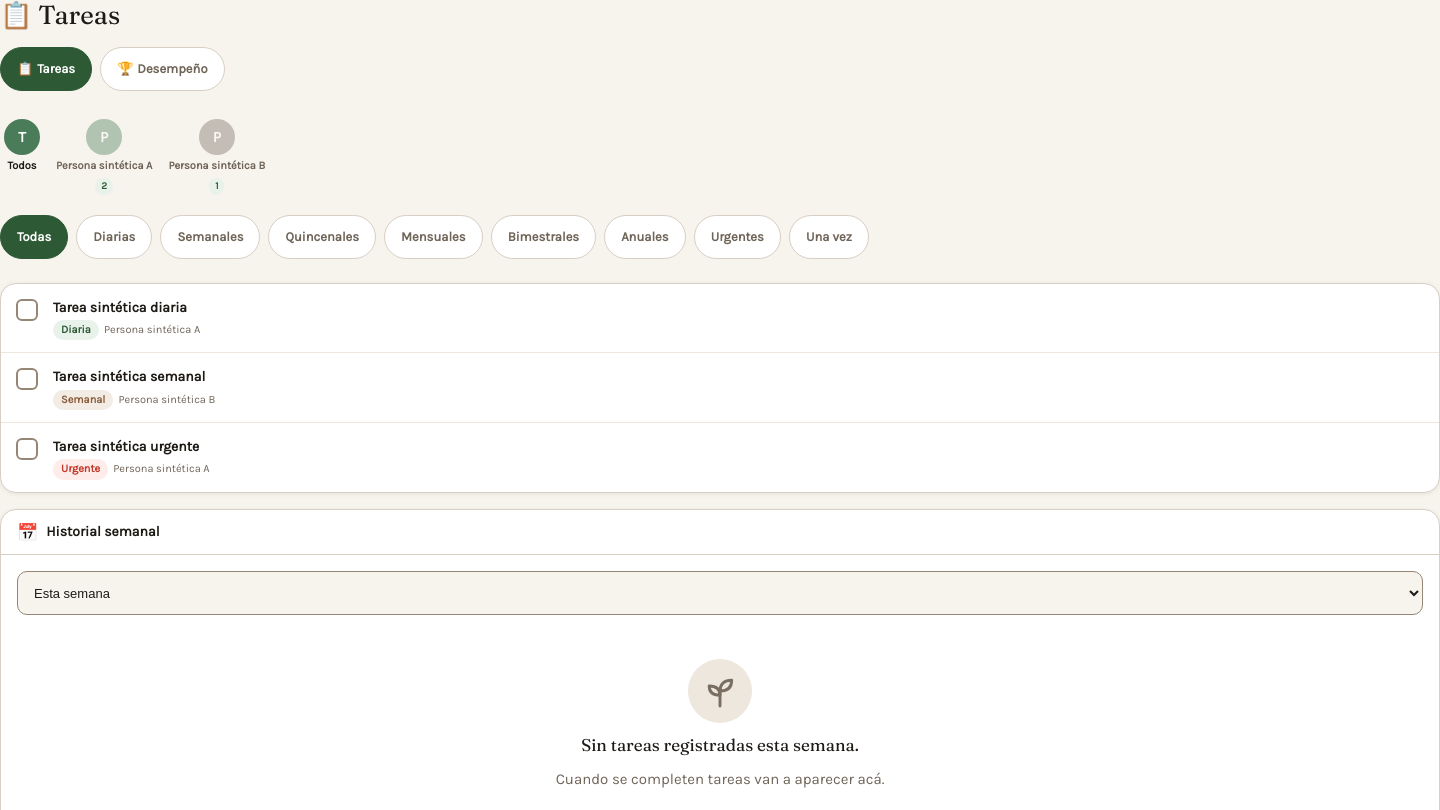
Test: TasksScreen — filtros › filtra por persona
expect the list named "Tareas del período" is shown: met, box [1, 284, 1439, 492]
Click the button "P Persona sintética B 1" at [217, 157], box [164, 115, 269, 199]
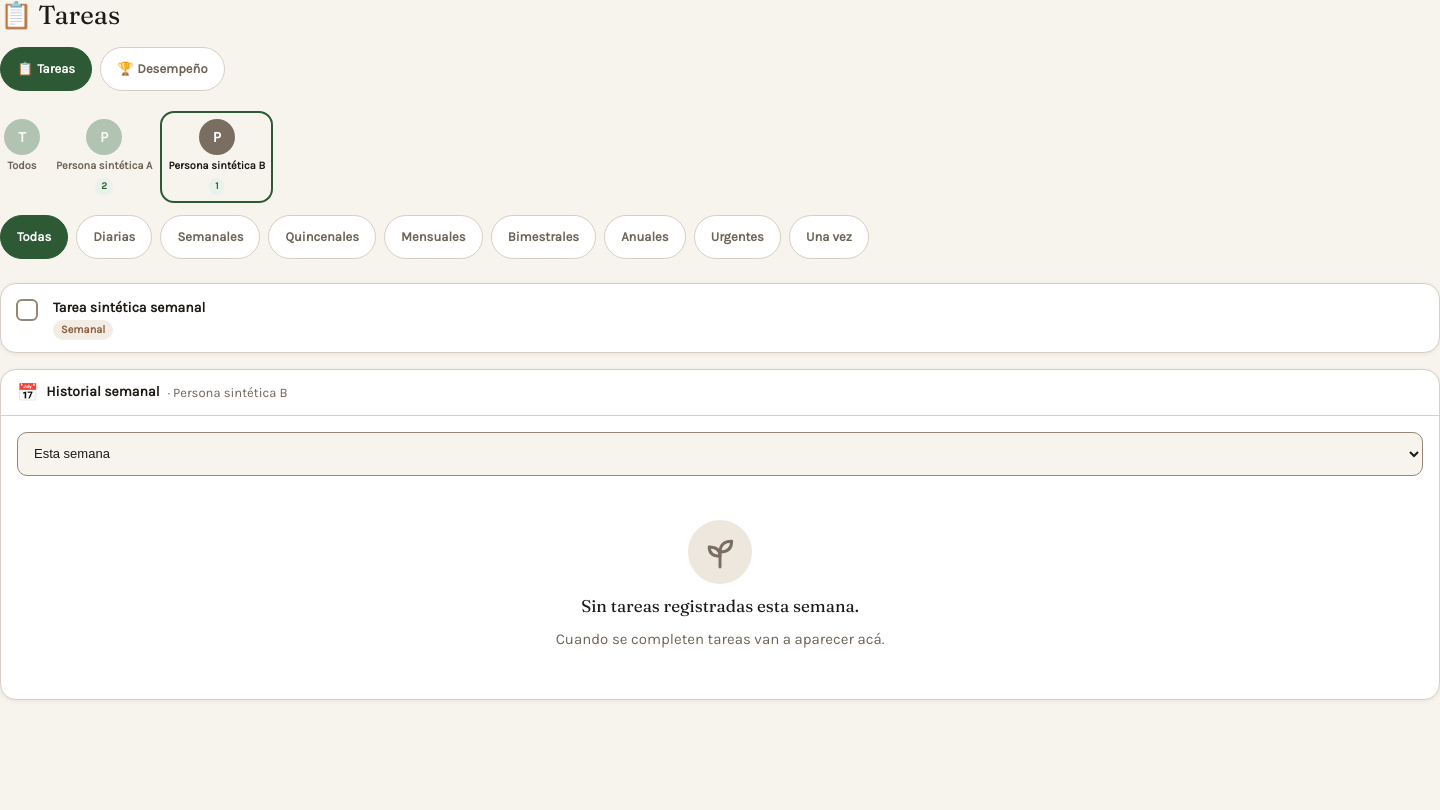
expect the text "Tarea sintética semanal" is shown: met, box [53, 299, 205, 316]
expect the text "Tarea sintética diaria" is gone: met
